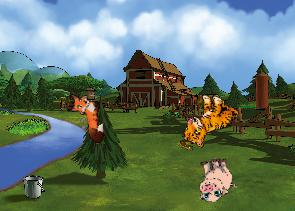fox: (65, 90, 106, 145)
pig: (192, 155, 237, 203)
tiger: (179, 88, 241, 155)
